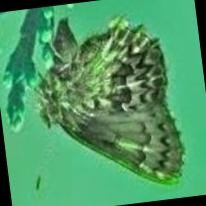butterfly: (38, 17, 182, 183)
